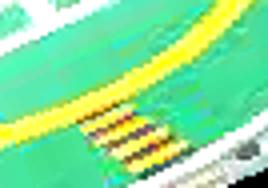Apron: (1, 1, 257, 151)
